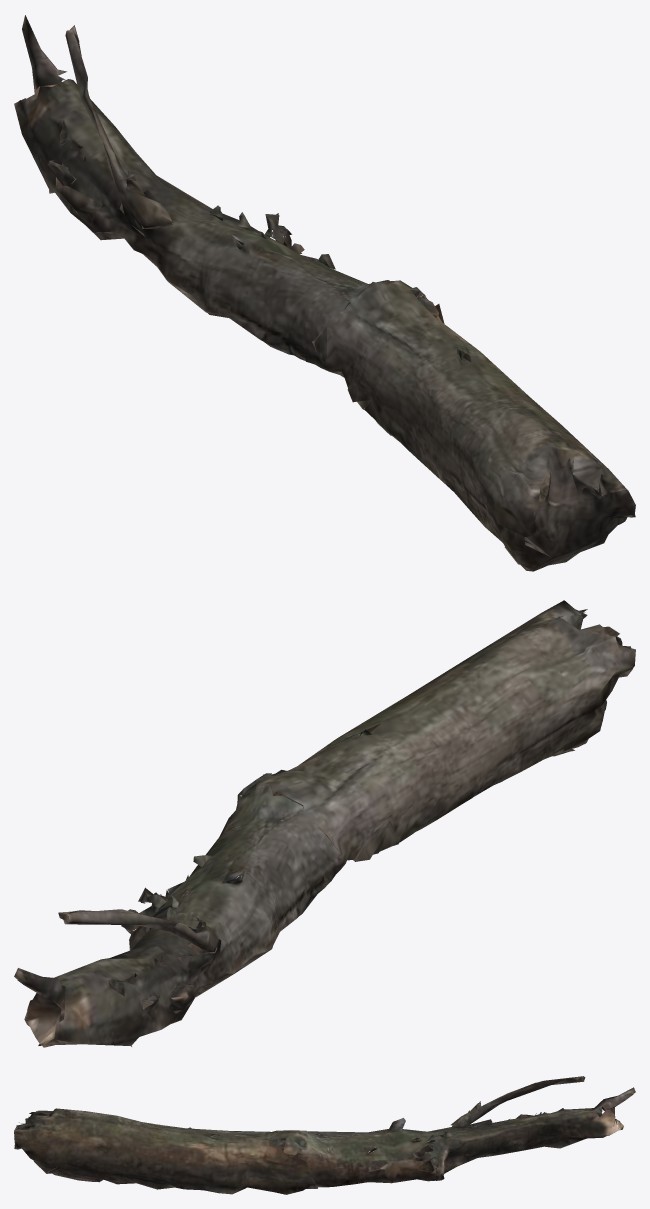
File: dry_branches_medium_01_v3.glb
The picture shows the model from 3 angles, top to bottom: view 1: azimuth 30°, elevation 25°; view 2: azimuth 150°, elevation 25°; view 3: azimuth 270°, elevation 25°; orthographic projection. The views are drawn at different scales.
Visible parts, largest first — view 1: lod0; view 2: lod0; view 3: lod0.
Part boxes in pixels (x1,y1,x2,y2): lod0: (14,15,635,571); lod0: (14,600,635,1047); lod0: (14,1076,635,1194).
Size of what is drawn, in the model's own units: 0.1273 by 0.1447 by 0.7801.
Materials: 1 (1 with a texture image).
